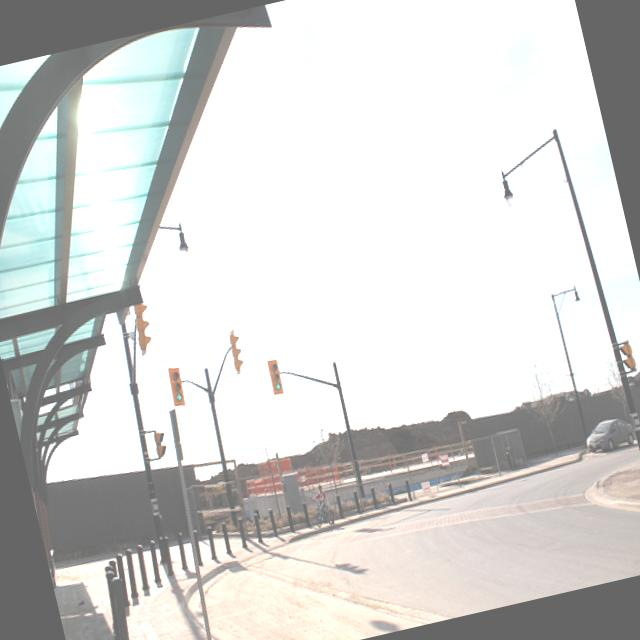Vehicle: (583, 414, 637, 454)
